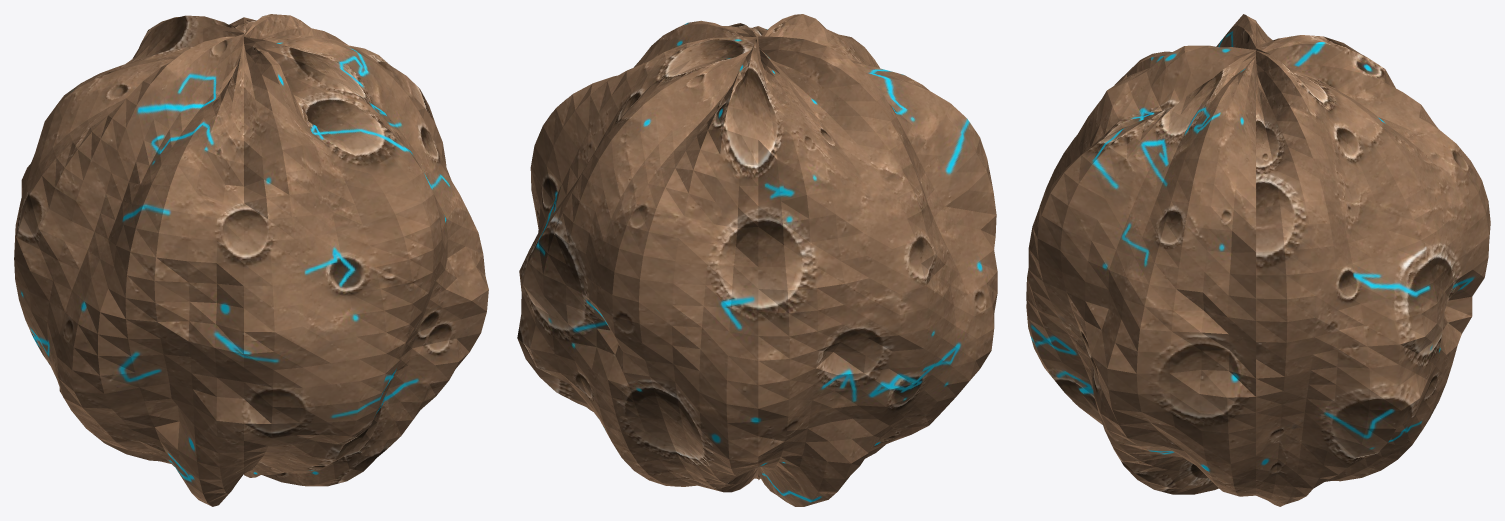
Rendered from asteroide_grande.obj.
3 renders of one model, left to right at view 1: azimuth 30°, elevation 25°; view 2: azimuth 150°, elevation 25°; view 3: azimuth 270°, elevation 25°, orthographic.
Parts seen in each view (by area): view 1: Asteroide_grande; view 2: Asteroide_grande; view 3: Asteroide_grande.
Part boxes in pixels (x1,y1,x2,y2): Asteroide_grande: (14, 14, 488, 506); Asteroide_grande: (517, 14, 997, 506); Asteroide_grande: (1026, 14, 1490, 506).
Bounding box in the file's own units: 2.07 × 2.16 × 2.06.
1 material, 1 textured.
